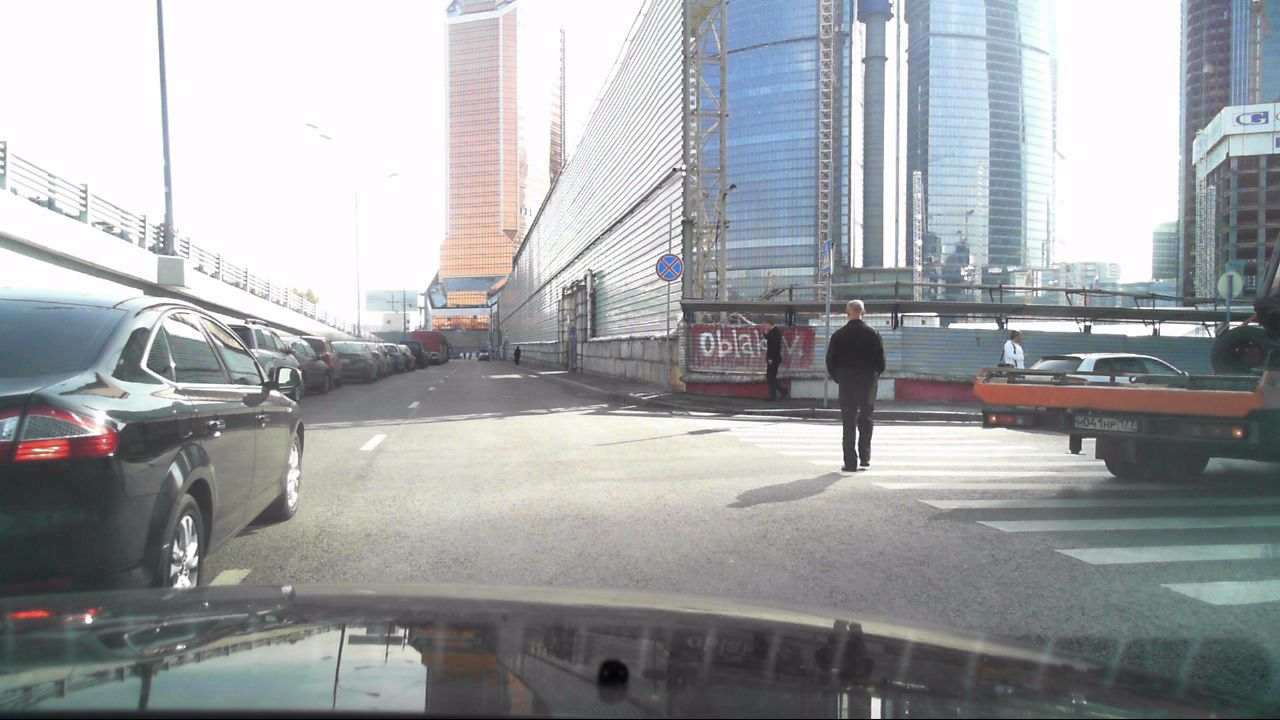No Parking: (656, 253, 686, 283)
